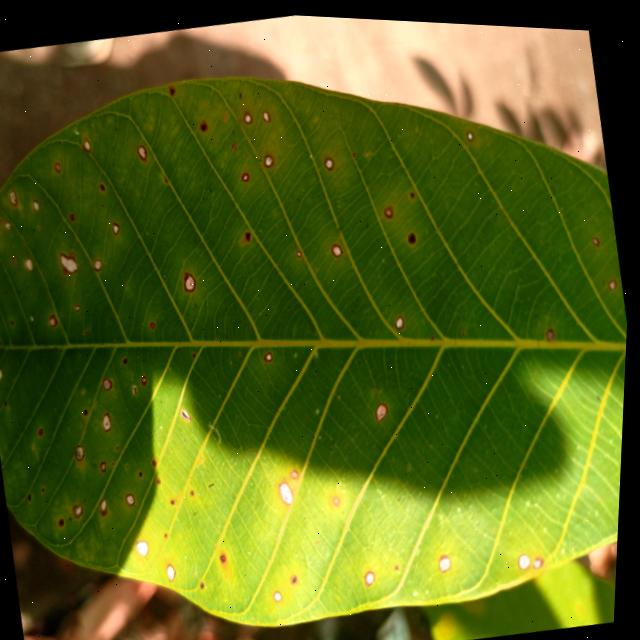Colletotrichum: (376, 398, 392, 417), (441, 549, 456, 568), (184, 271, 198, 289), (104, 411, 115, 431), (77, 443, 89, 460), (331, 239, 344, 254), (368, 566, 380, 582), (323, 153, 335, 167), (137, 144, 148, 159), (104, 376, 116, 389), (546, 322, 558, 335), (128, 491, 139, 504), (395, 312, 406, 325), (50, 313, 60, 327), (242, 109, 253, 121), (94, 258, 105, 270), (264, 151, 274, 164), (408, 227, 417, 240), (113, 220, 121, 234), (385, 203, 394, 214), (262, 107, 270, 119), (83, 139, 91, 151), (265, 349, 275, 358), (103, 460, 111, 471), (34, 199, 41, 211), (278, 587, 286, 597), (242, 170, 250, 179), (200, 120, 208, 129), (223, 551, 231, 560), (593, 230, 600, 239), (294, 467, 301, 476), (62, 517, 68, 525), (41, 427, 47, 435), (246, 229, 251, 238), (144, 374, 149, 381), (152, 320, 157, 327), (101, 183, 106, 190), (71, 213, 76, 220), (86, 407, 91, 414), (77, 304, 82, 311), (30, 493, 35, 500), (174, 497, 179, 502), (142, 470, 146, 475), (33, 433, 35, 435)
